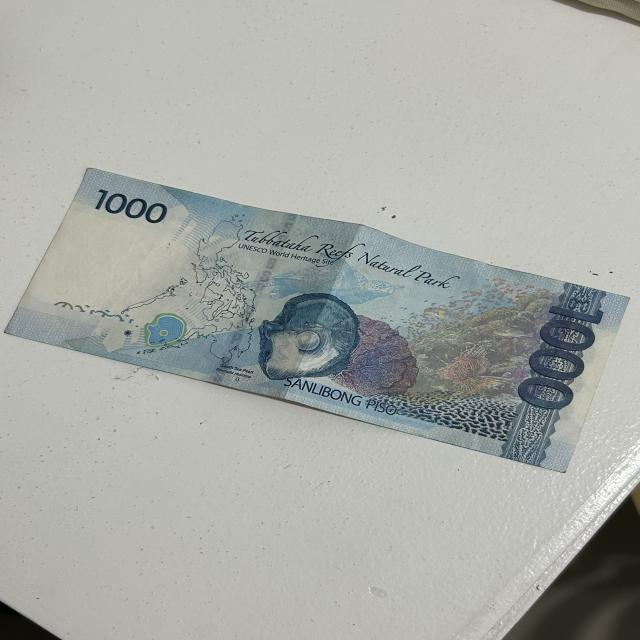1000_pearl: (264, 289, 346, 380)
1000_pearl_watermark: (147, 315, 187, 351)
